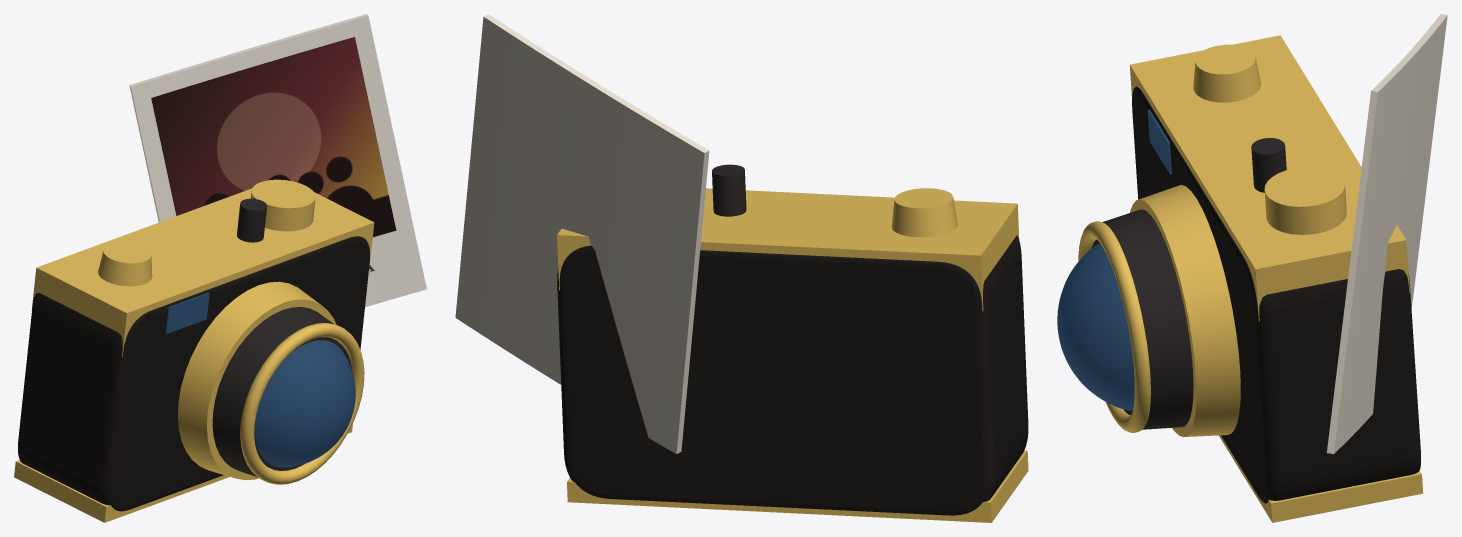
Rendered from galeri.glb.
3 views of the same model, side by side, from view 1: azimuth 30°, elevation 25°; view 2: azimuth 150°, elevation 25°; view 3: azimuth 270°, elevation 25° (orthographic). The views are drawn at different scales.
Bounding box in the file's own units: 1.52 × 1.27 × 0.9672.
Materials: 6 (1 with a texture image).
